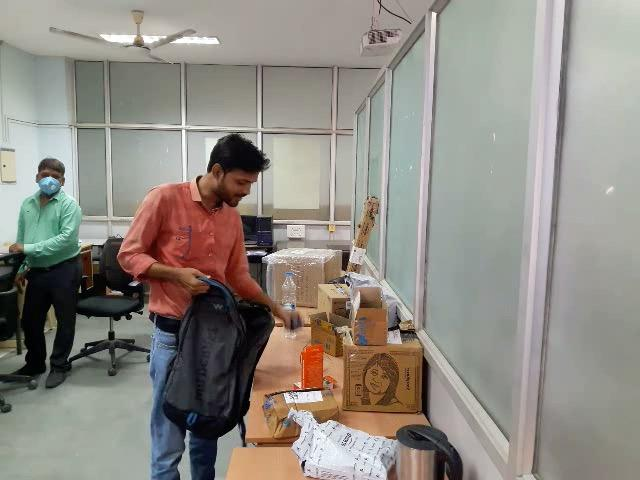shoplifting: (113, 224, 307, 476)
